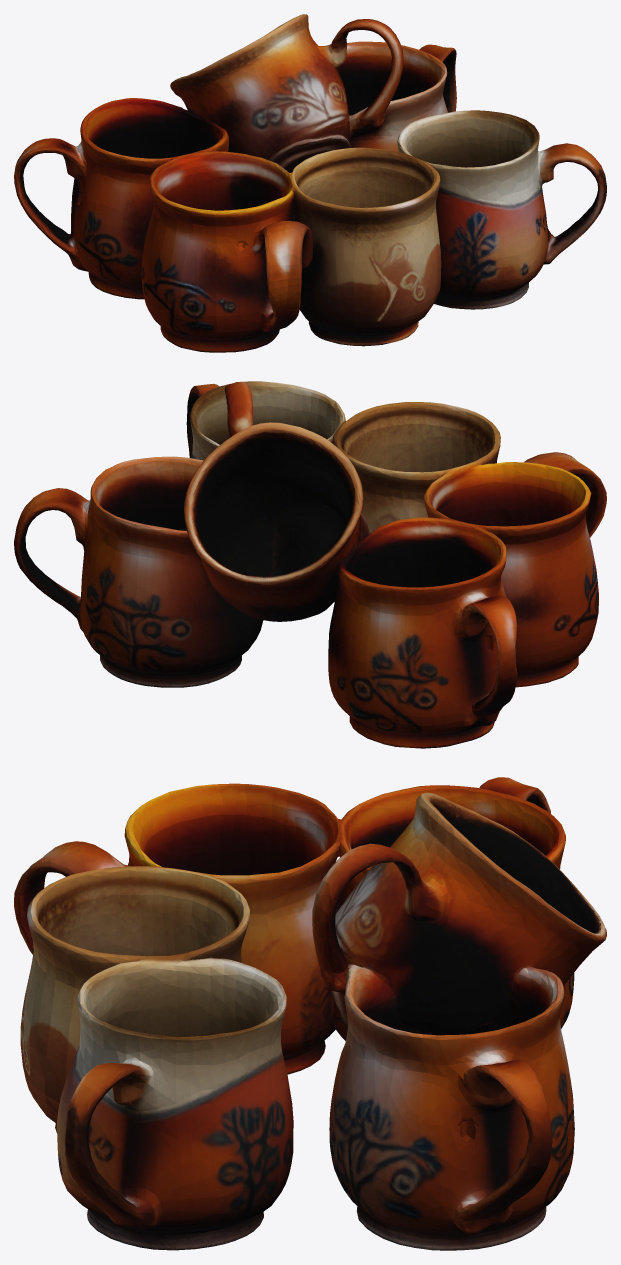
File: ceramic-mug-set-rustic.jpeg.glb
3 renders of one model, top to bottom at view 1: azimuth 30°, elevation 25°; view 2: azimuth 150°, elevation 25°; view 3: azimuth 270°, elevation 25°, orthographic. The views are drawn at different scales.
Visible parts, largest first — view 1: world; view 2: world; view 3: world.
Boxes of the visible parts, <box> form: world: <box>14,14,606,352</box>; world: <box>14,381,606,748</box>; world: <box>14,777,606,1250</box>.
Size of the model in its own units: 1 by 0.4941 by 0.7826.
Materials: 1 (1 with a texture image).
